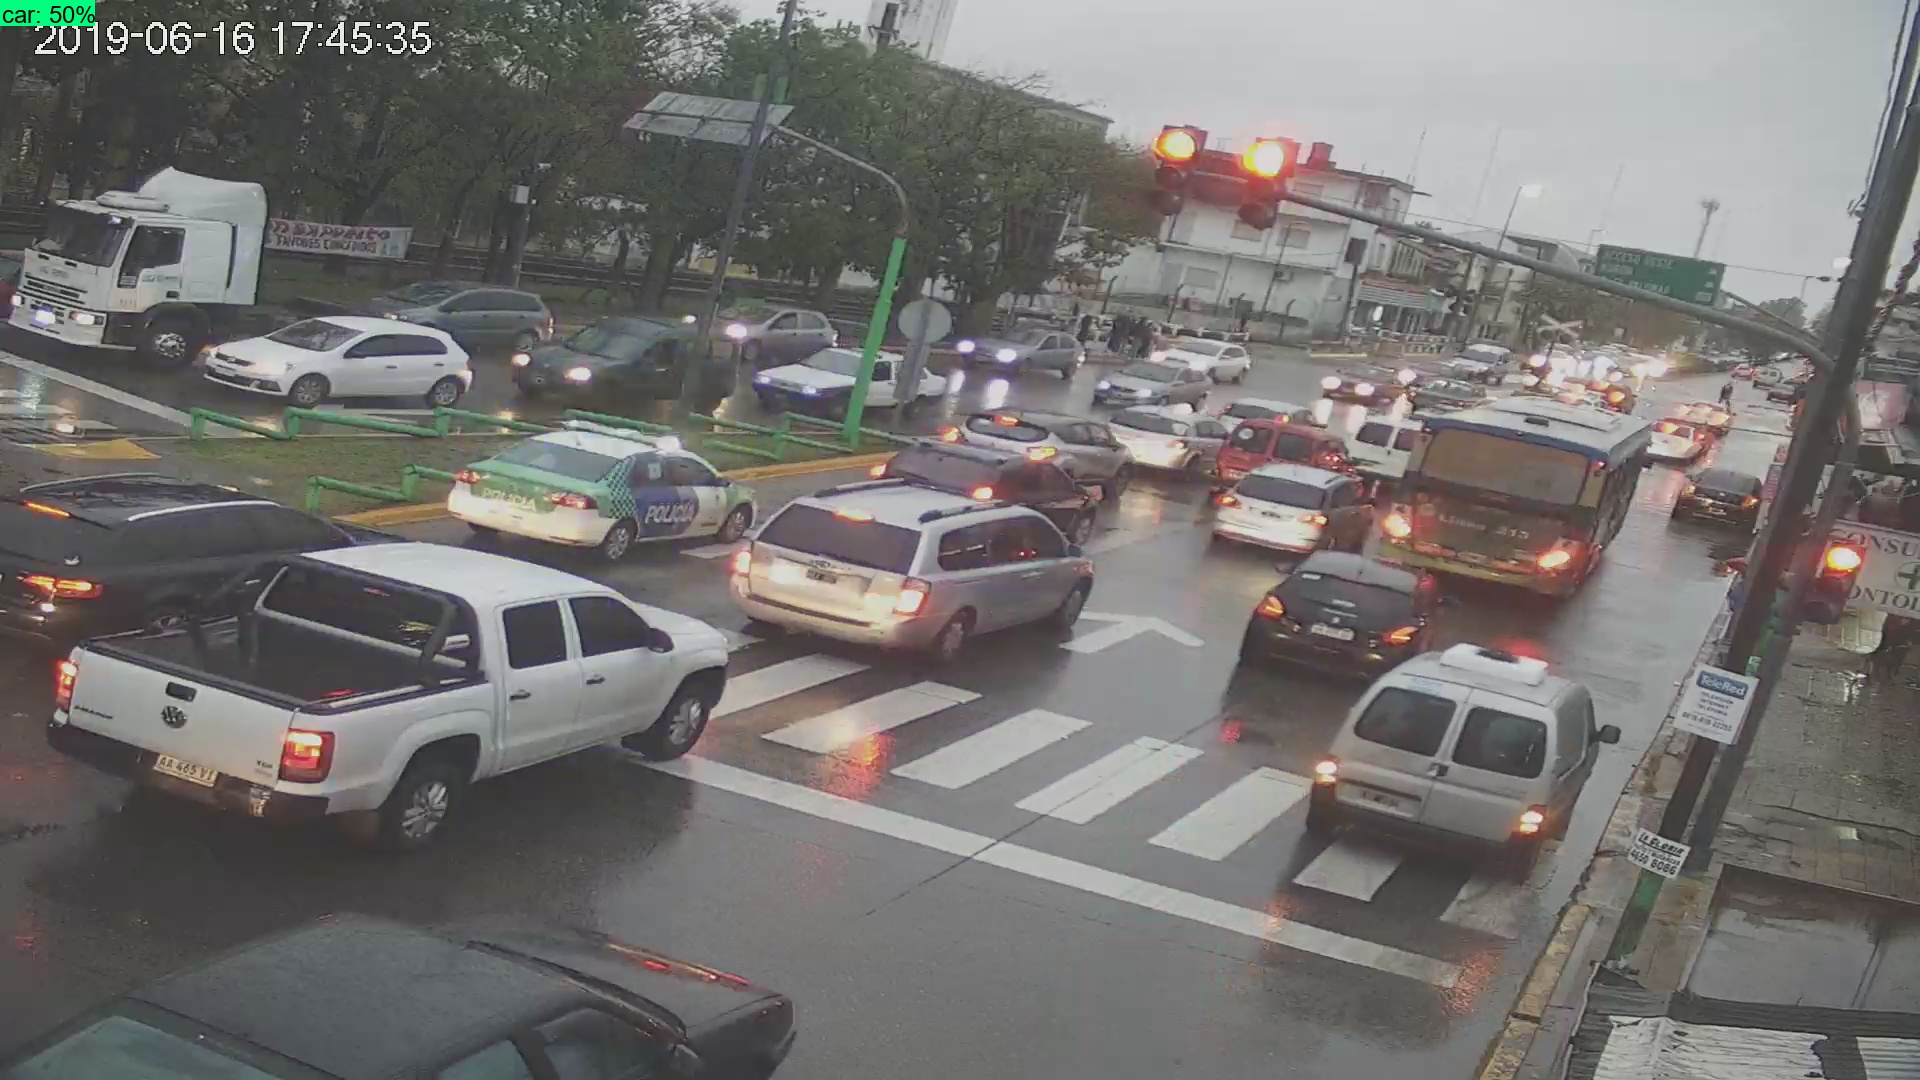bus: (1395, 392, 1656, 607)
car: (41, 541, 740, 852), (9, 902, 807, 1080), (1304, 620, 1625, 873), (723, 458, 1102, 670), (195, 305, 472, 414), (1244, 550, 1443, 691), (516, 305, 723, 407), (752, 323, 947, 427), (1207, 454, 1382, 559), (1672, 452, 1763, 549)
police car: (448, 415, 761, 560)
truck: (7, 156, 262, 398)
